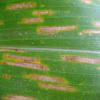Corn Gray leaf spot: (0, 1, 99, 99)
